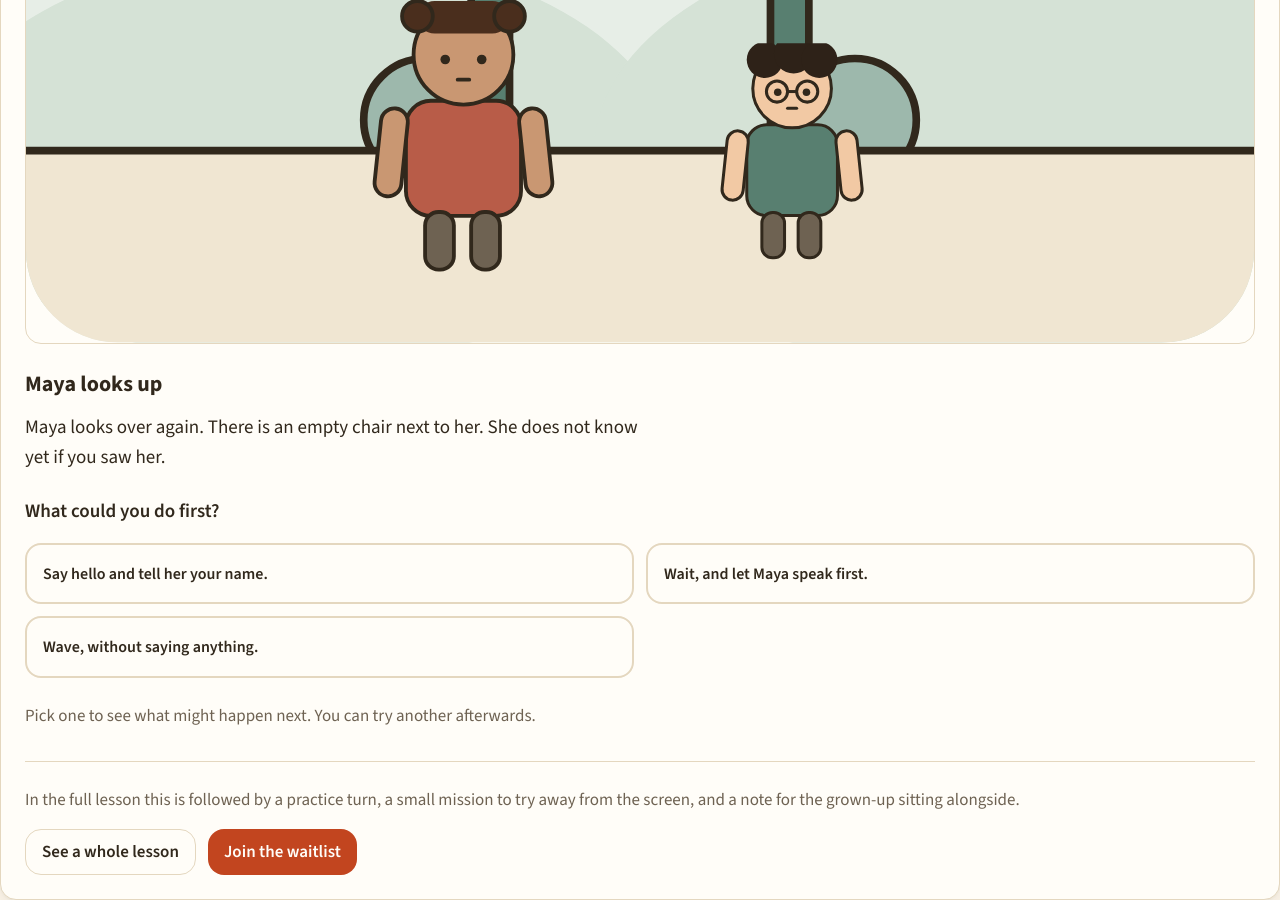
Test: SampleScenario › shows what tends to happen after a choice
(page scrolled)
Click the button "Say hello and tell her your name.": (155, 573) 25,543 -> 634,604
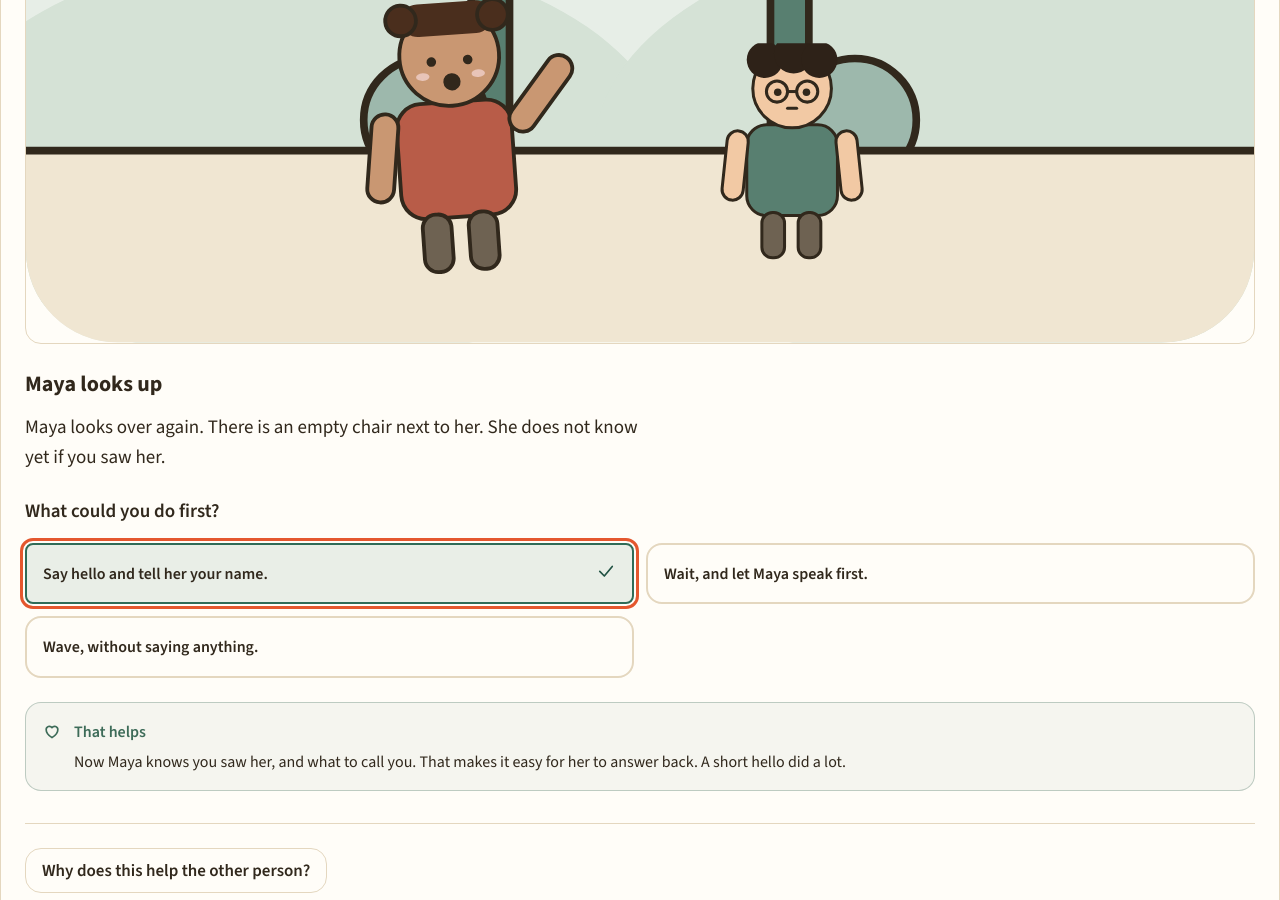
expect the text "Now Maya knows you saw her, and what to call you. That makes it easy for her to answer back. A short hello did a lot." is shown: met, box 74,751 -> 846,772
